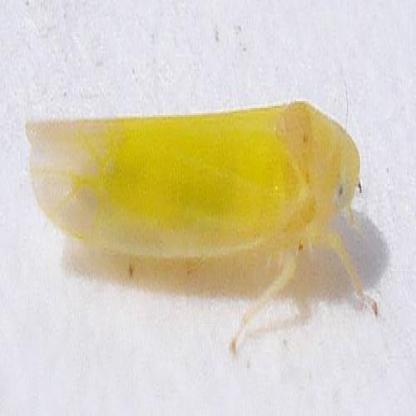green-leafhopper: (26, 112, 374, 306)
